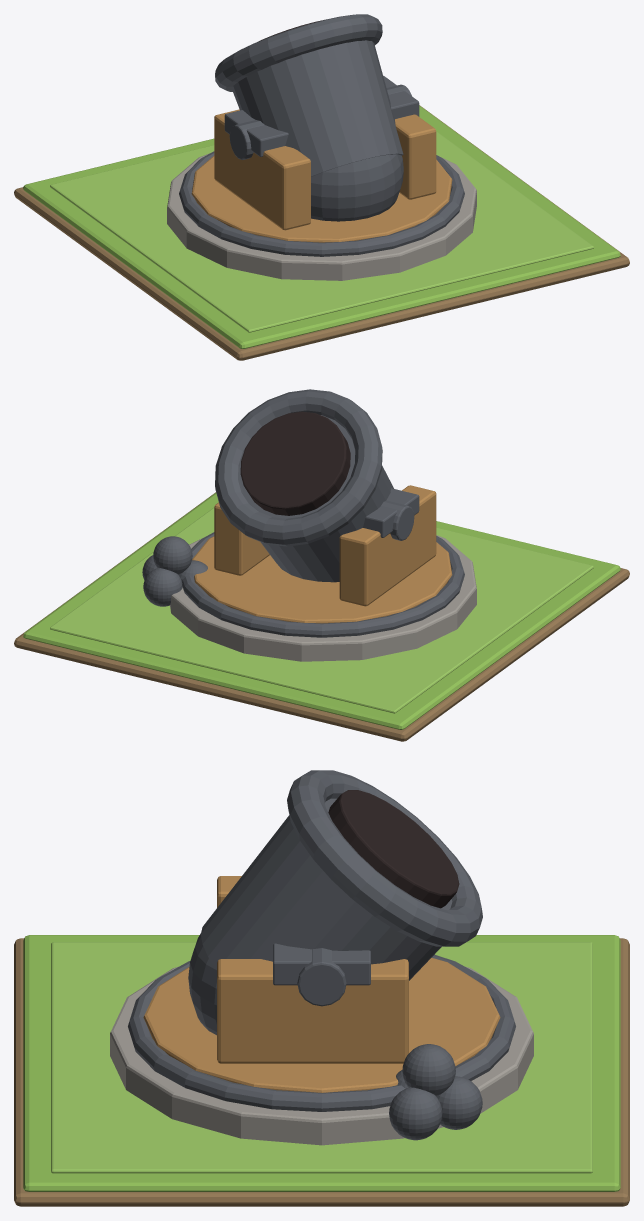
File: mortar_lv1.glb
3 renders of one model, top to bottom at view 1: azimuth 30°, elevation 25°; view 2: azimuth 150°, elevation 25°; view 3: azimuth 270°, elevation 25°, orthographic. The views are drawn at different scales.
Parts seen in each view (by area): view 1: Base_Inner, Base_Grass, MortarDrum, MortarStoneBase, Base_Dirt, MortarWoodDeck, MortarCheek_-1, BaseIronRing, MortarBreech, MortarMuzzleRim, MortarCheek_1, CheekIronCap_-1 (+2 smaller); view 2: Base_Inner, Base_Grass, MortarMuzzleRim, MortarWoodDeck, MortarBore, MortarStoneBase, Base_Dirt, MortarCheek_-1, BaseIronRing, MortarDrum, MortarCheek_1, CheekIronCap_-1 (+3 smaller); view 3: Base_Inner, Base_Grass, MortarCheek_1, MortarWoodDeck, MortarDrum, Base_Dirt, MortarStoneBase, MortarMuzzleRim, BaseIronRing, MortarBore, CheekIronCap_1, MortarShell_1 (+4 smaller).
Part boxes in pixels (x1,y1,x2,y2): Base_Inner: (50, 131, 593, 332); Base_Grass: (23, 105, 620, 348); MortarDrum: (232, 40, 403, 176); MortarStoneBase: (167, 153, 476, 280); Base_Dirt: (14, 105, 629, 360); MortarWoodDeck: (191, 155, 452, 242); MortarCheek_-1: (214, 109, 310, 230); BaseIronRing: (179, 151, 464, 256); MortarBreech: (311, 154, 403, 221); MortarMuzzleRim: (215, 14, 382, 91); MortarCheek_1: (395, 114, 436, 199); CheekIronCap_-1: (224, 110, 288, 156); Base_Inner: (50, 507, 593, 713); Base_Grass: (23, 492, 620, 729); MortarMuzzleRim: (215, 389, 382, 546); MortarWoodDeck: (192, 536, 452, 623); MortarBore: (240, 411, 350, 515); MortarStoneBase: (170, 535, 476, 661); Base_Dirt: (14, 492, 629, 741); MortarCheek_-1: (339, 485, 436, 606); BaseIronRing: (182, 532, 464, 637); MortarDrum: (240, 415, 393, 582); MortarCheek_1: (214, 502, 269, 575); CheekIronCap_-1: (363, 488, 419, 537); Base_Inner: (51, 942, 592, 1173); Base_Grass: (23, 935, 620, 1191); MortarCheek_1: (217, 959, 408, 1063); MortarWoodDeck: (143, 957, 500, 1092); MortarDrum: (200, 798, 452, 980); Base_Dirt: (14, 938, 629, 1206); MortarStoneBase: (110, 967, 533, 1145); MortarMuzzleRim: (287, 770, 482, 946); BaseIronRing: (128, 954, 515, 1111); MortarBore: (328, 790, 459, 908); CheekIronCap_1: (273, 943, 370, 985); MortarShell_1: (389, 1087, 442, 1140).
Size of the model in its own units: 2.76 by 1.45 by 2.76.
